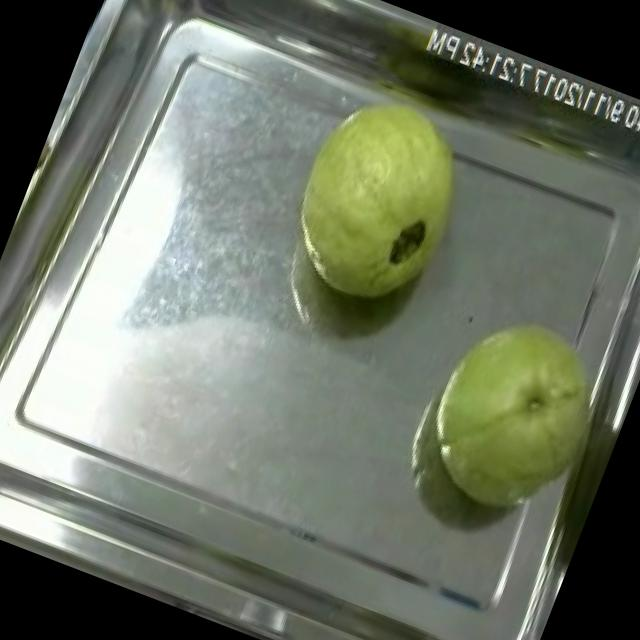Fruit: (259, 69, 501, 336), (396, 282, 638, 543)
